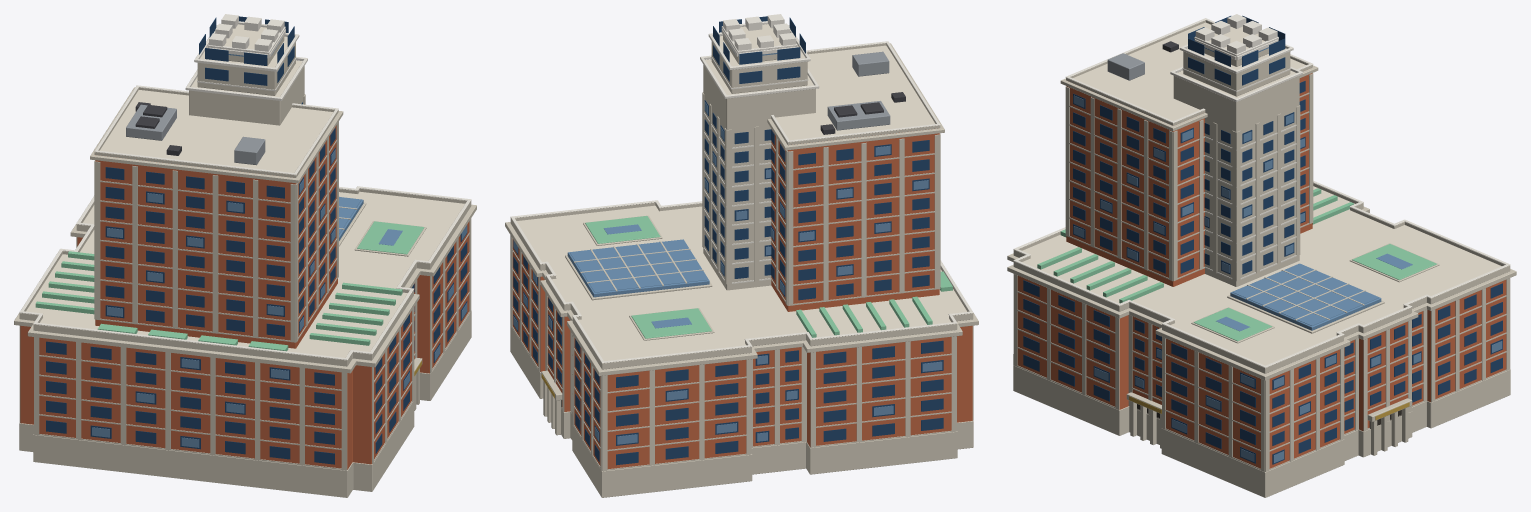
Rendered from 2-folsom.glb.
3 views of the same model, side by side, from view 1: azimuth 30°, elevation 25°; view 2: azimuth 150°, elevation 25°; view 3: azimuth 270°, elevation 25° (orthographic). The views are drawn at different scales.
Visible parts, largest first — view 1: base_body, sup_body, base_course, terrace_deck, sup_deck, base_parapet, base_cornice, tower_body, base_coping, tower_step1, sup_cornice, sup_parapet (+26 smaller); view 2: base_body, terrace_deck, sup_body, base_course, tower_body, sup_deck, skylight_glow, base_parapet, base_cornice, base_coping, tower_step1, lawn_a (+28 smaller); view 3: base_body, terrace_deck, sup_body, base_course, tower_body, sup_deck, base_parapet, skylight_glow, base_cornice, base_coping, tower_step1, lawn_a (+22 smaller).
Boxes of the visible parts, bbox=[...] form: base_body: bbox=[20, 221, 469, 469]; sup_body: bbox=[95, 125, 337, 348]; base_course: bbox=[19, 311, 471, 497]; terrace_deck: bbox=[26, 191, 464, 357]; sup_deck: bbox=[100, 90, 333, 172]; base_parapet: bbox=[19, 188, 471, 366]; base_cornice: bbox=[14, 204, 476, 373]; tower_body: bbox=[189, 60, 304, 125]; base_coping: bbox=[19, 186, 471, 360]; tower_step1: bbox=[197, 36, 295, 95]; sup_cornice: bbox=[90, 87, 343, 183]; sup_parapet: bbox=[94, 87, 338, 177]; base_body: bbox=[512, 239, 972, 468]; terrace_deck: bbox=[516, 205, 967, 361]; sup_body: bbox=[771, 129, 939, 311]; base_course: bbox=[510, 325, 973, 497]; tower_body: bbox=[703, 59, 815, 290]; sup_deck: bbox=[775, 45, 935, 140]; skylight_glow: bbox=[570, 239, 707, 292]; base_parapet: bbox=[510, 202, 973, 369]; base_cornice: bbox=[505, 222, 978, 376]; base_coping: bbox=[510, 200, 973, 363]; tower_step1: bbox=[711, 36, 807, 93]; lawn_a: bbox=[631, 308, 711, 338]; base_body: bbox=[1017, 275, 1506, 468]; terrace_deck: bbox=[1022, 186, 1501, 365]; sup_body: bbox=[1066, 73, 1312, 286]; base_course: bbox=[1013, 354, 1510, 497]; tower_body: bbox=[1173, 70, 1299, 286]; sup_deck: bbox=[1073, 22, 1305, 120]; base_parapet: bbox=[1013, 183, 1510, 373]; skylight_glow: bbox=[1232, 264, 1378, 325]; base_cornice: bbox=[1007, 206, 1516, 380]; base_coping: bbox=[1013, 180, 1510, 367]; tower_step1: bbox=[1183, 48, 1290, 96]; lawn_a: bbox=[1352, 244, 1436, 279].
Bounding box in the file's own units: 114 × 88 × 114.
